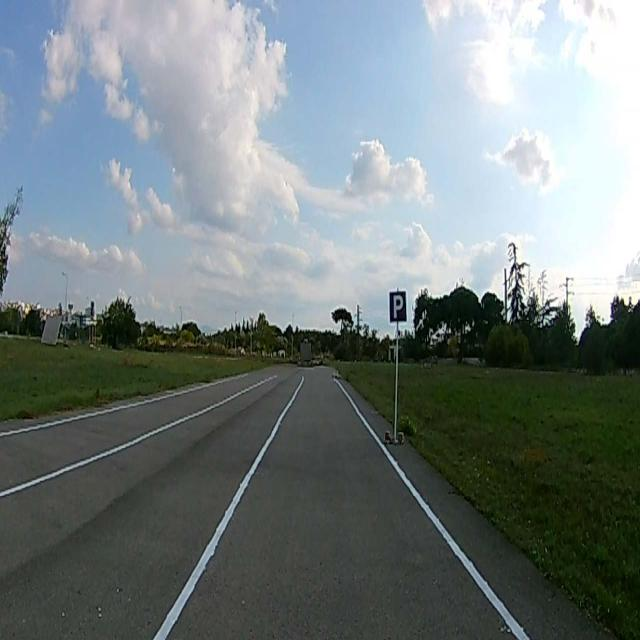park: (389, 292, 406, 321)
